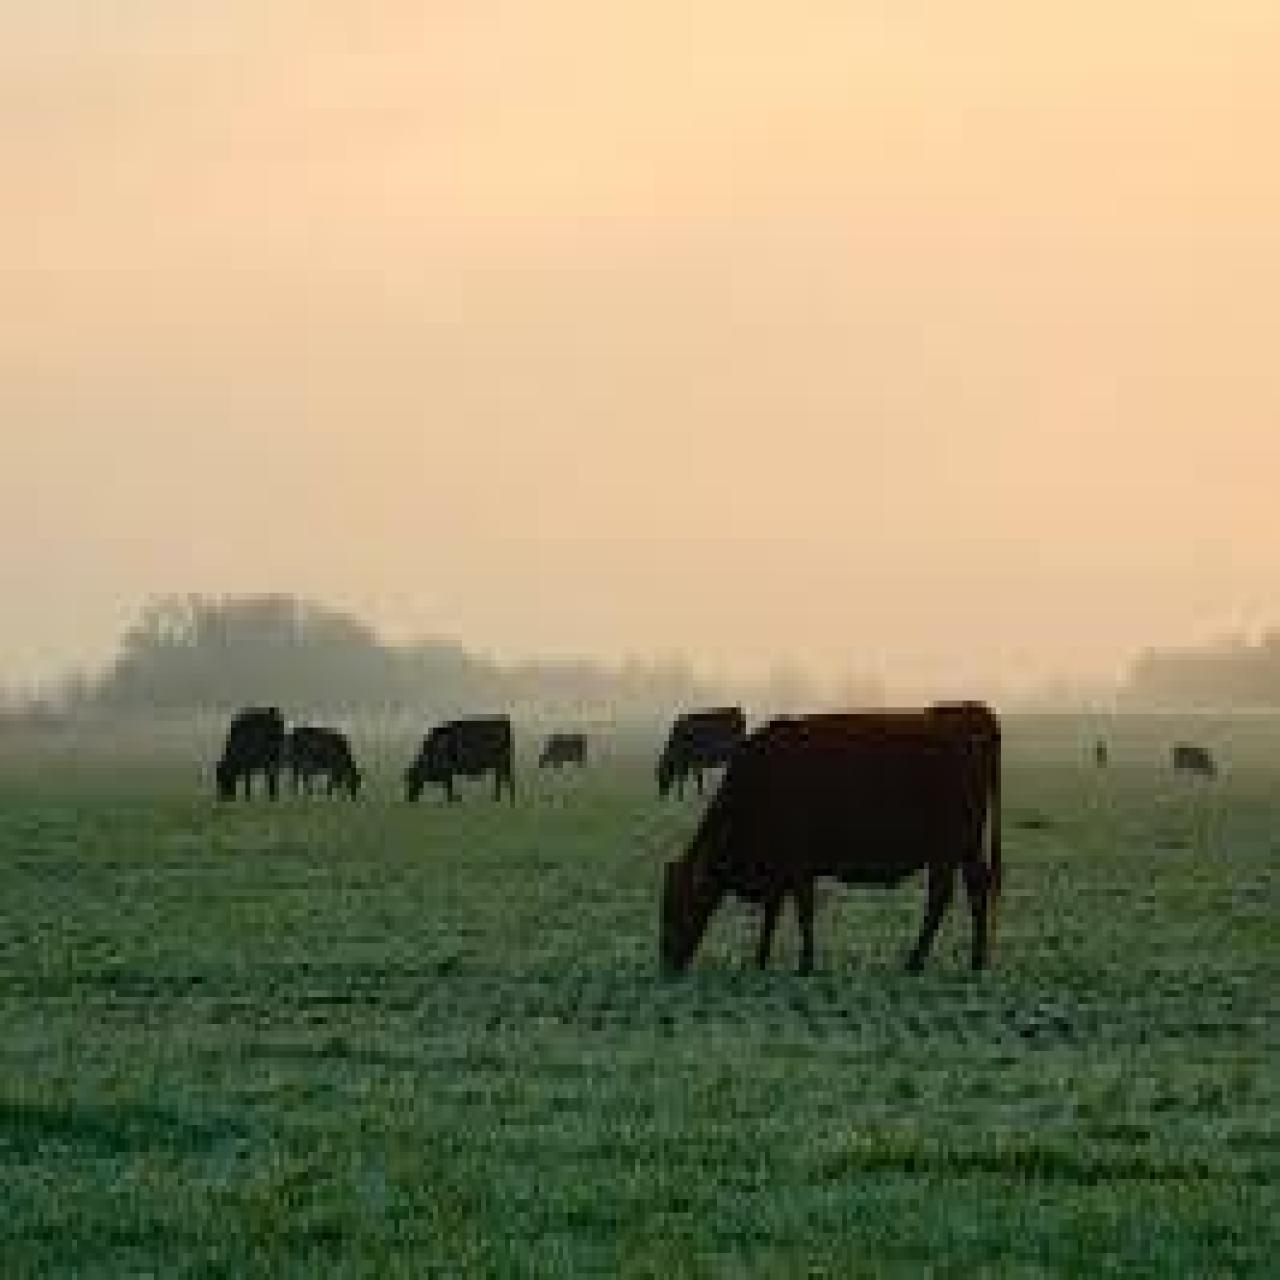cow: (667, 710, 1003, 973), (404, 714, 519, 795), (217, 701, 299, 802), (665, 707, 756, 795), (277, 721, 363, 795), (1167, 737, 1225, 778), (537, 734, 594, 768)
